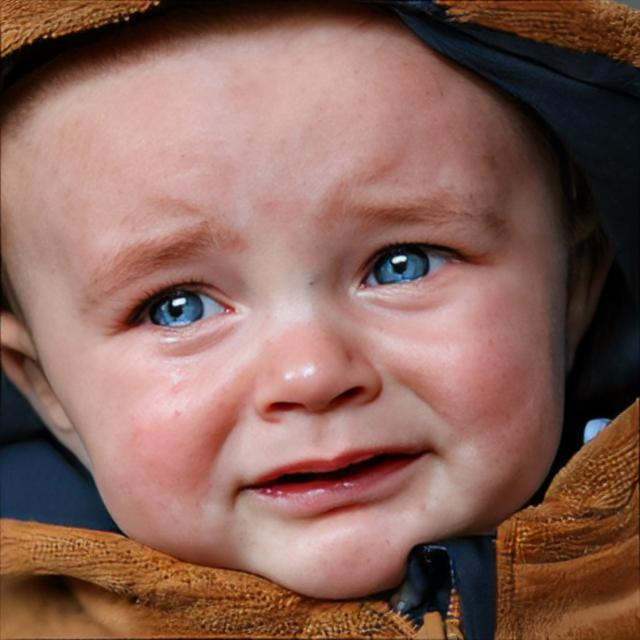sad: (0, 5, 571, 602)
